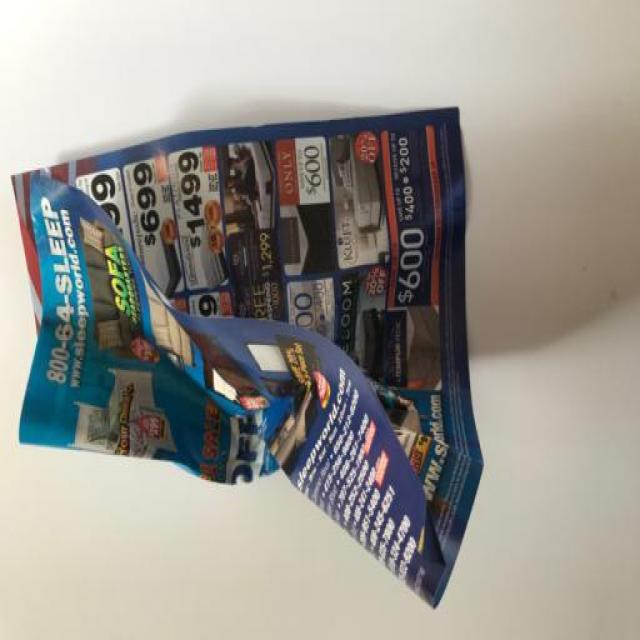paper: (11, 92, 510, 617)
